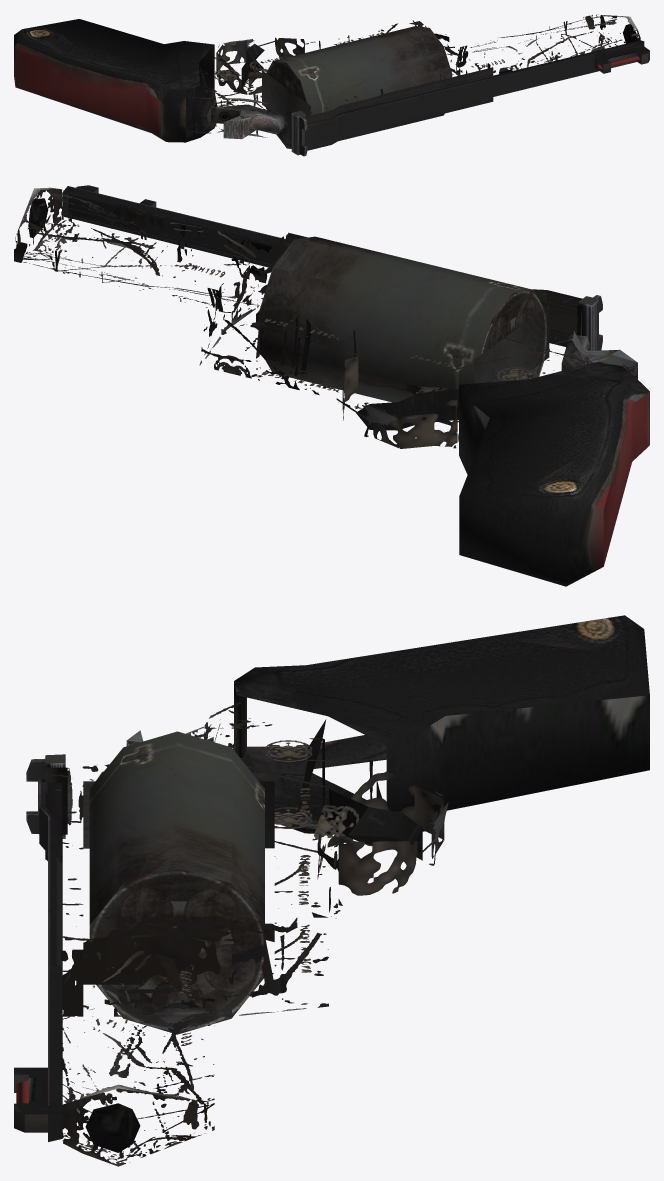
File: t6_wpn_pistol_judge_world_lh_LOD1.obj
3 renders of one model, top to bottom at view 1: azimuth 30°, elevation 25°; view 2: azimuth 150°, elevation 25°; view 3: azimuth 270°, elevation 25°, orthographic. The views are drawn at different scales.
Parts seen in each view (by area): view 1: mtl_t6_wpn_pistol_judge_camo2, mtl_t6_wpn_pistol_judge_camo1, mtl_t6_wpn_pistol_judge, mtl_t6_wpn_pistol_judge_camo4; view 2: mtl_t6_wpn_pistol_judge_camo2, mtl_t6_wpn_pistol_judge, mtl_t6_wpn_pistol_judge_camo4, mtl_t6_wpn_pistol_judge_camo1; view 3: mtl_t6_wpn_pistol_judge_camo2, mtl_t6_wpn_pistol_judge, mtl_t6_wpn_pistol_judge_camo1, mtl_t6_wpn_pistol_judge_camo4.
Part boxes in pixels (x1=…): mtl_t6_wpn_pistol_judge_camo2: x1=14, y1=19, x2=496, y2=144; mtl_t6_wpn_pistol_judge_camo1: x1=15, y1=43, x2=649, y2=156; mtl_t6_wpn_pistol_judge: x1=186, y1=20, x2=495, y2=150; mtl_t6_wpn_pistol_judge_camo4: x1=455, y1=14, x2=644, y2=95; mtl_t6_wpn_pistol_judge_camo2: x1=259, y1=236, x2=649, y2=586; mtl_t6_wpn_pistol_judge: x1=199, y1=232, x2=593, y2=448; mtl_t6_wpn_pistol_judge_camo4: x1=14, y1=186, x2=288, y2=312; mtl_t6_wpn_pistol_judge_camo1: x1=67, y1=185, x2=649, y2=566; mtl_t6_wpn_pistol_judge_camo2: x1=39, y1=615, x2=649, y2=924; mtl_t6_wpn_pistol_judge: x1=39, y1=702, x2=448, y2=1016; mtl_t6_wpn_pistol_judge_camo1: x1=14, y1=730, x2=422, y2=1132; mtl_t6_wpn_pistol_judge_camo4: x1=16, y1=950, x2=214, y2=1166.
Size of the model in its own units: 31.33 by 5.18 by 17.88.
